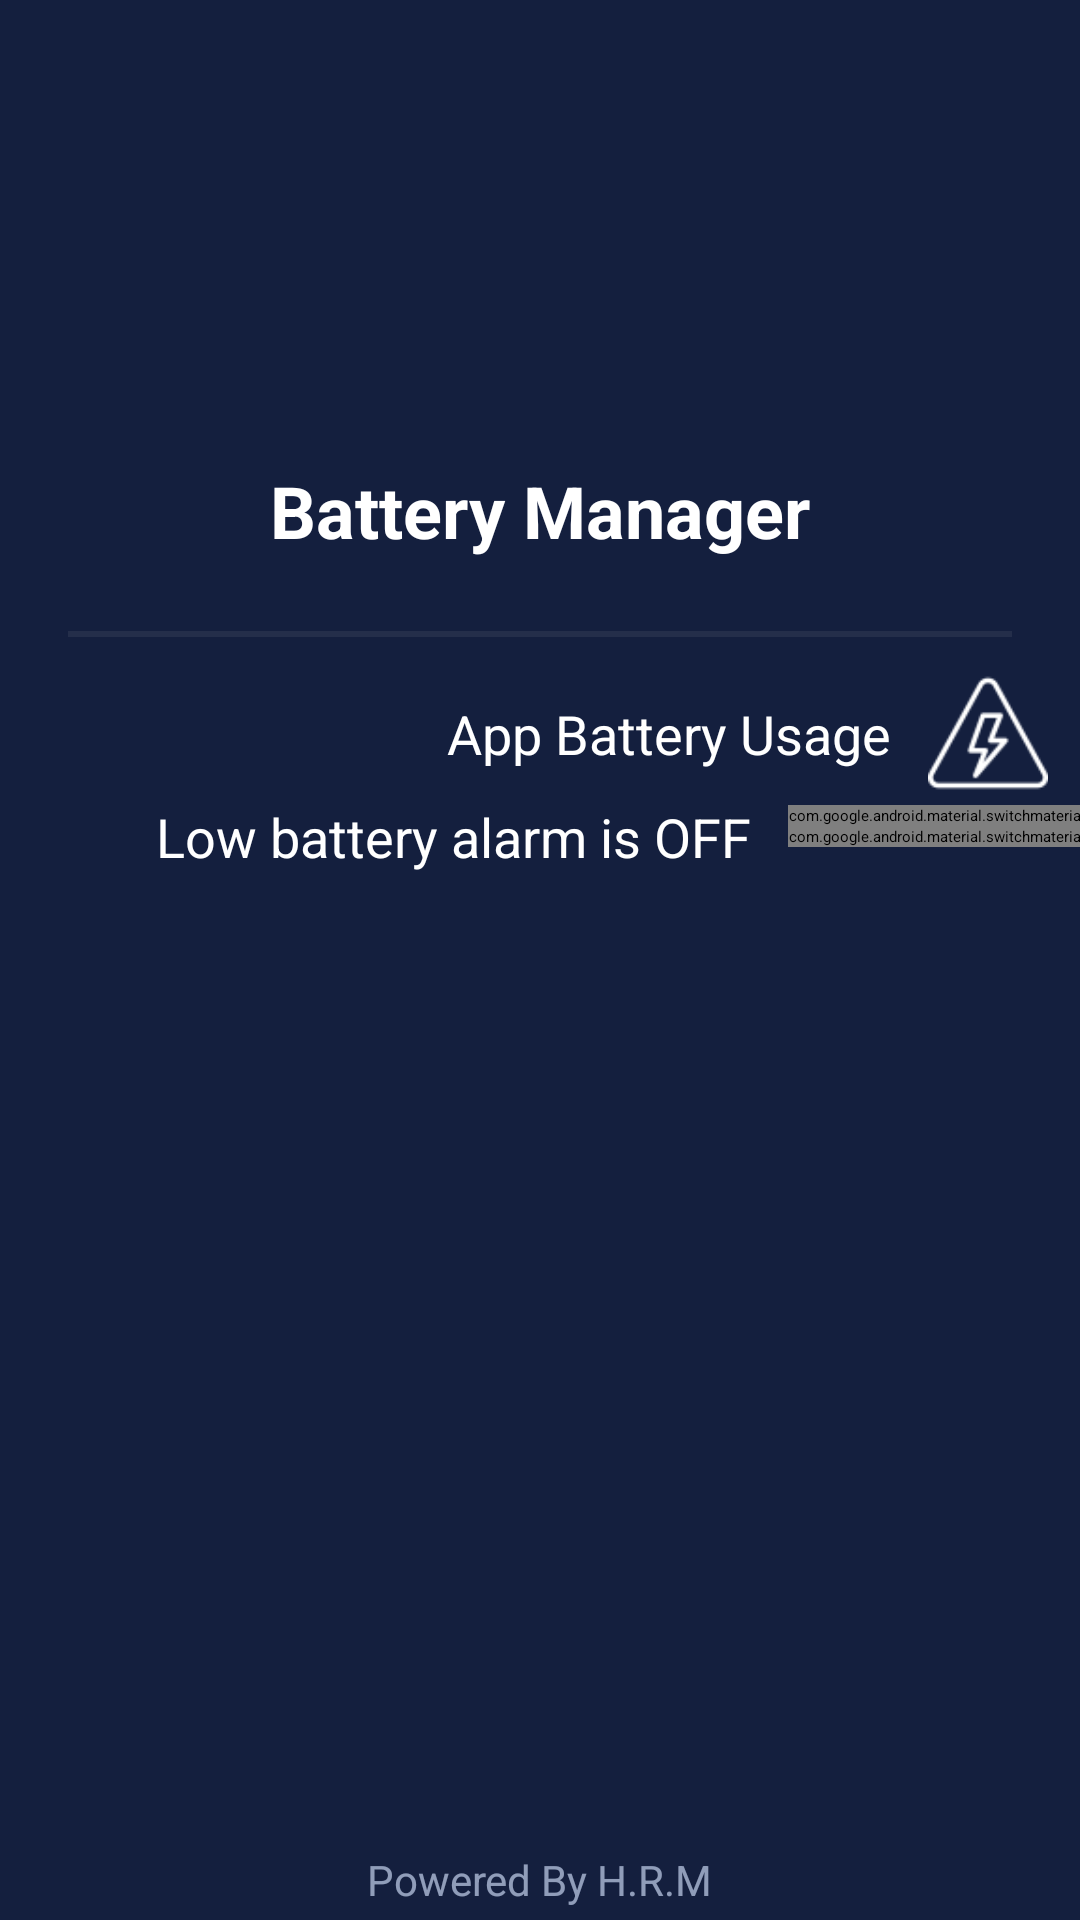

Icons on this 1080px×1920px Android screen, each with the point to tap as (x=x, y=y):
voltage: (x=988, y=733)
